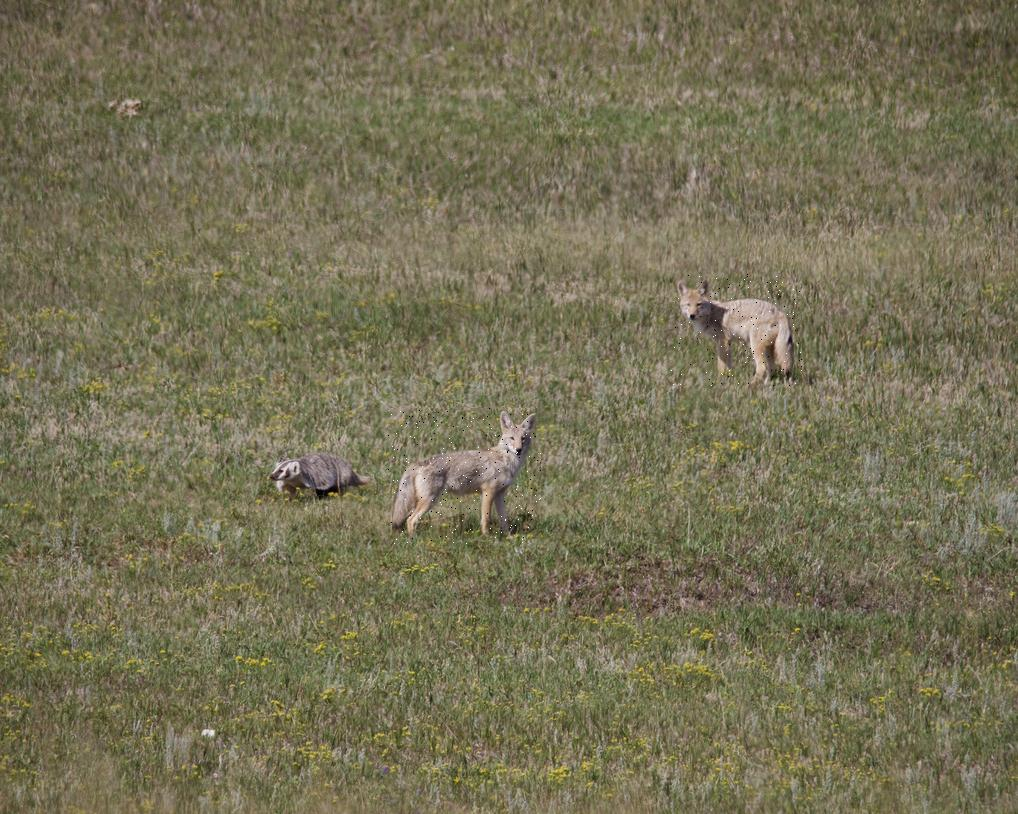Coyote: (386, 409, 540, 545), (670, 274, 801, 386)
